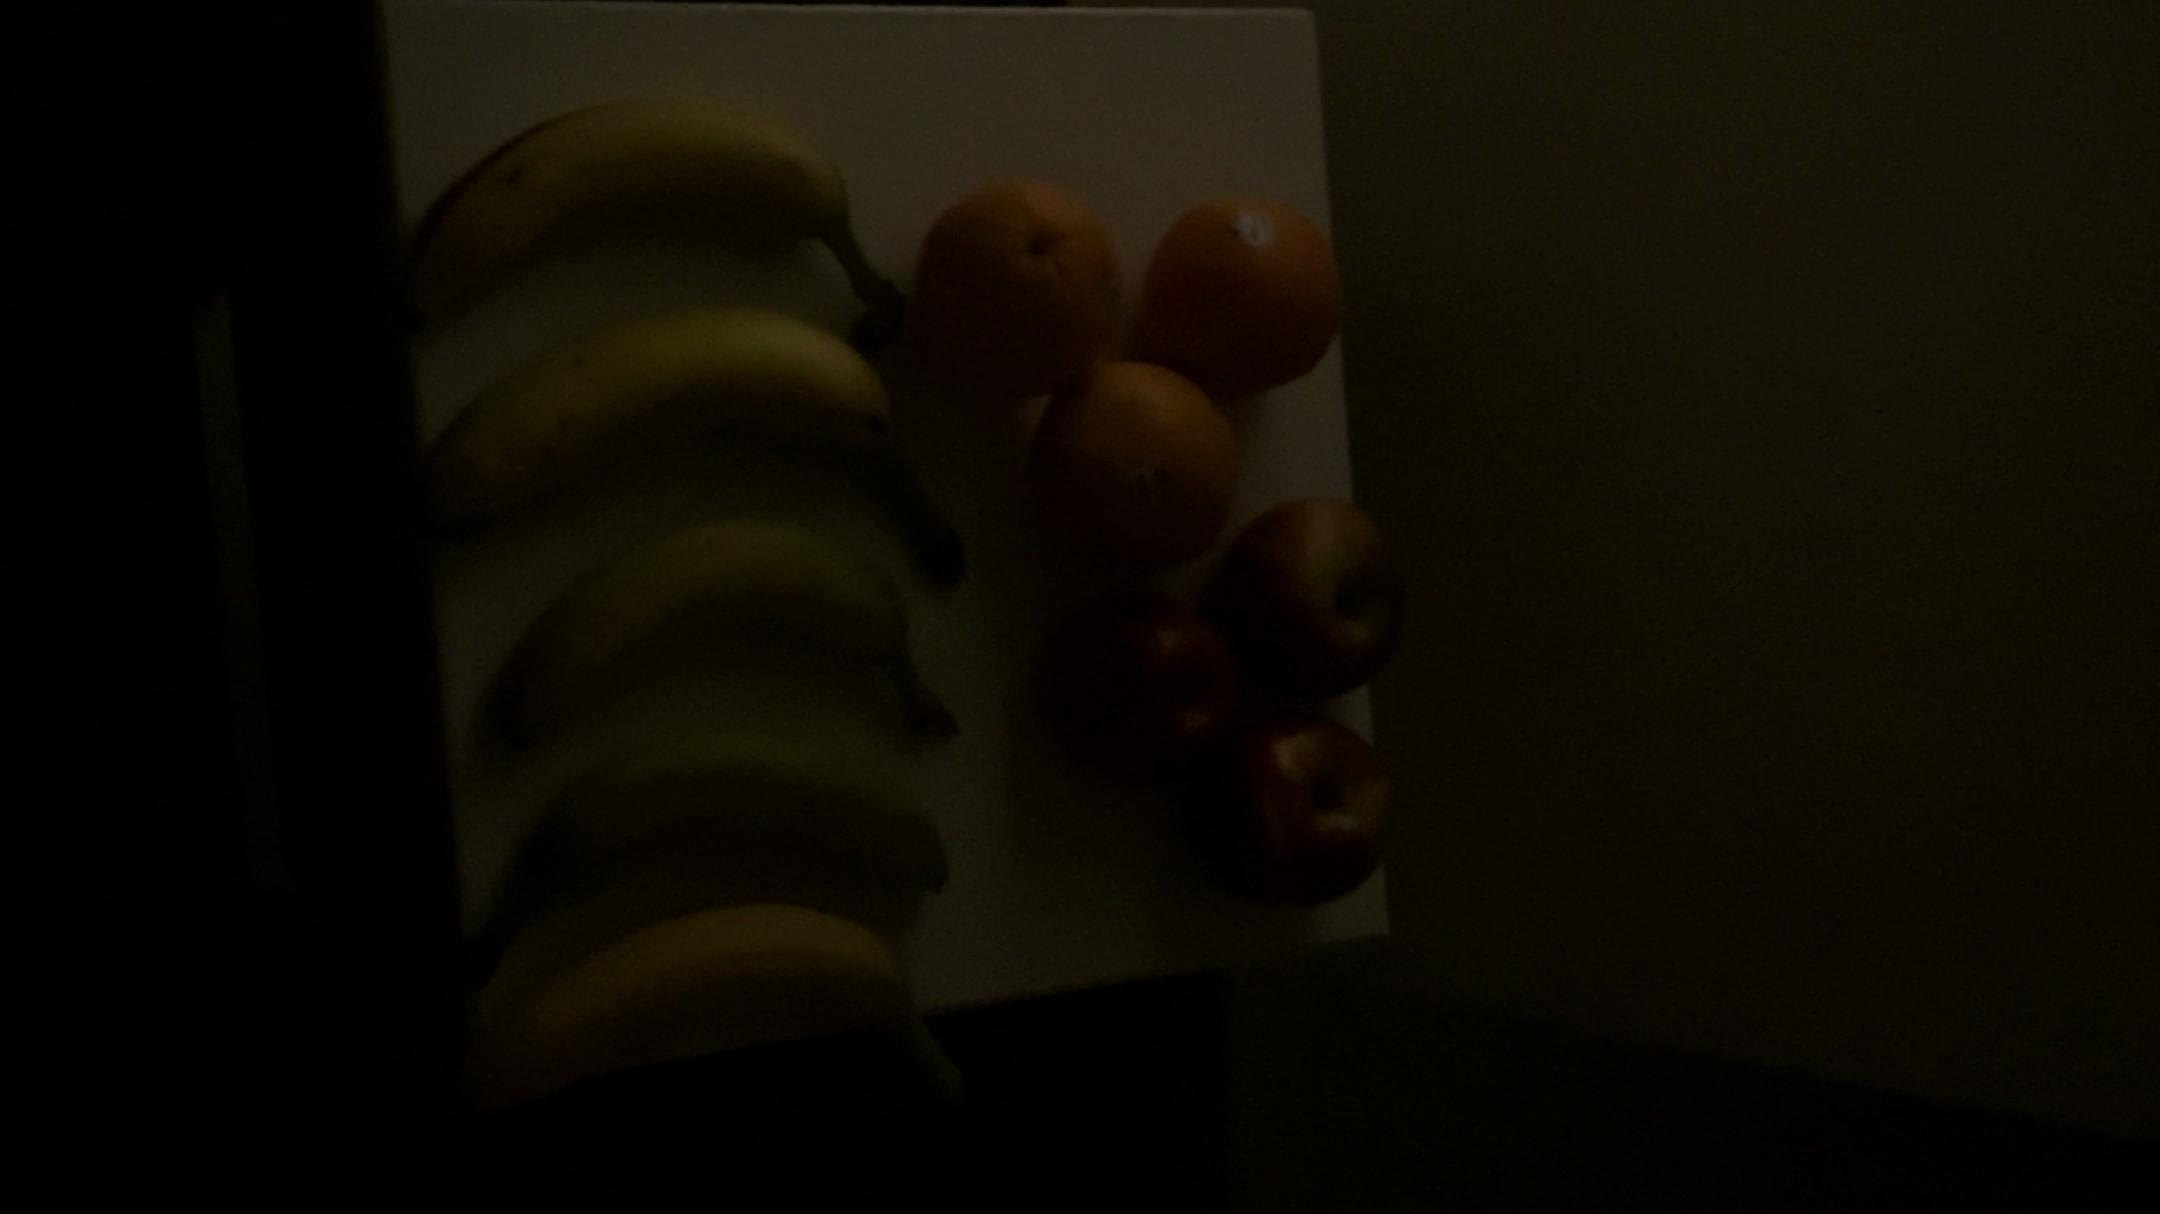apple: (1059, 594, 1270, 819), (1208, 706, 1397, 901), (1227, 491, 1406, 686)
banana: (423, 521, 963, 764), (386, 96, 903, 346), (387, 303, 942, 528), (432, 726, 981, 951), (433, 919, 958, 1132)
orange: (1141, 180, 1357, 408), (1038, 359, 1249, 591), (909, 157, 1125, 378)
